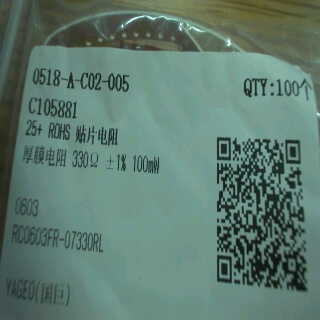330R: (71, 146, 101, 171)
